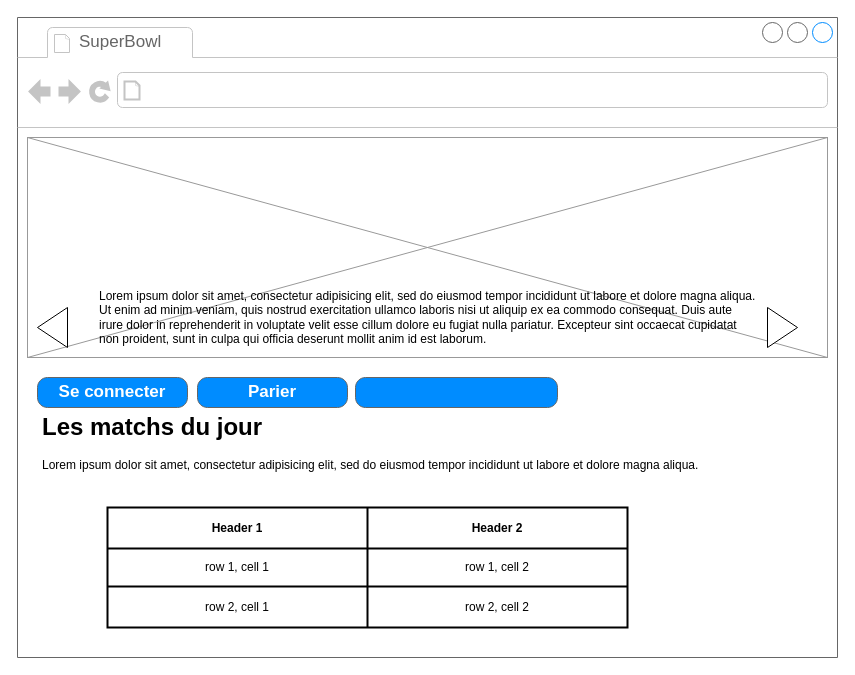
This 855x675 diagram has some shape labels left out. The shapes that lost their labels are listed below. From the top down, each one's centre as x and y in pixels, then its label:
At pixel 272 90: "https://superbowl.domain.org".
At pixel 456 392: "Tous les matchs".
